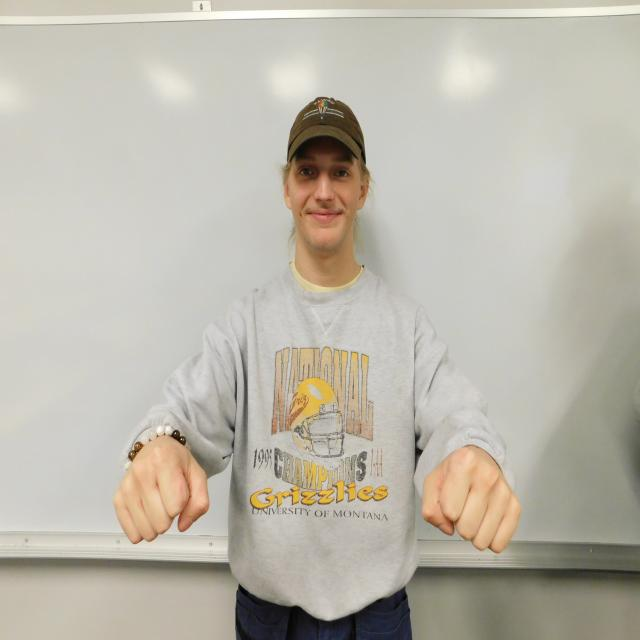can: (115, 434, 522, 554)
